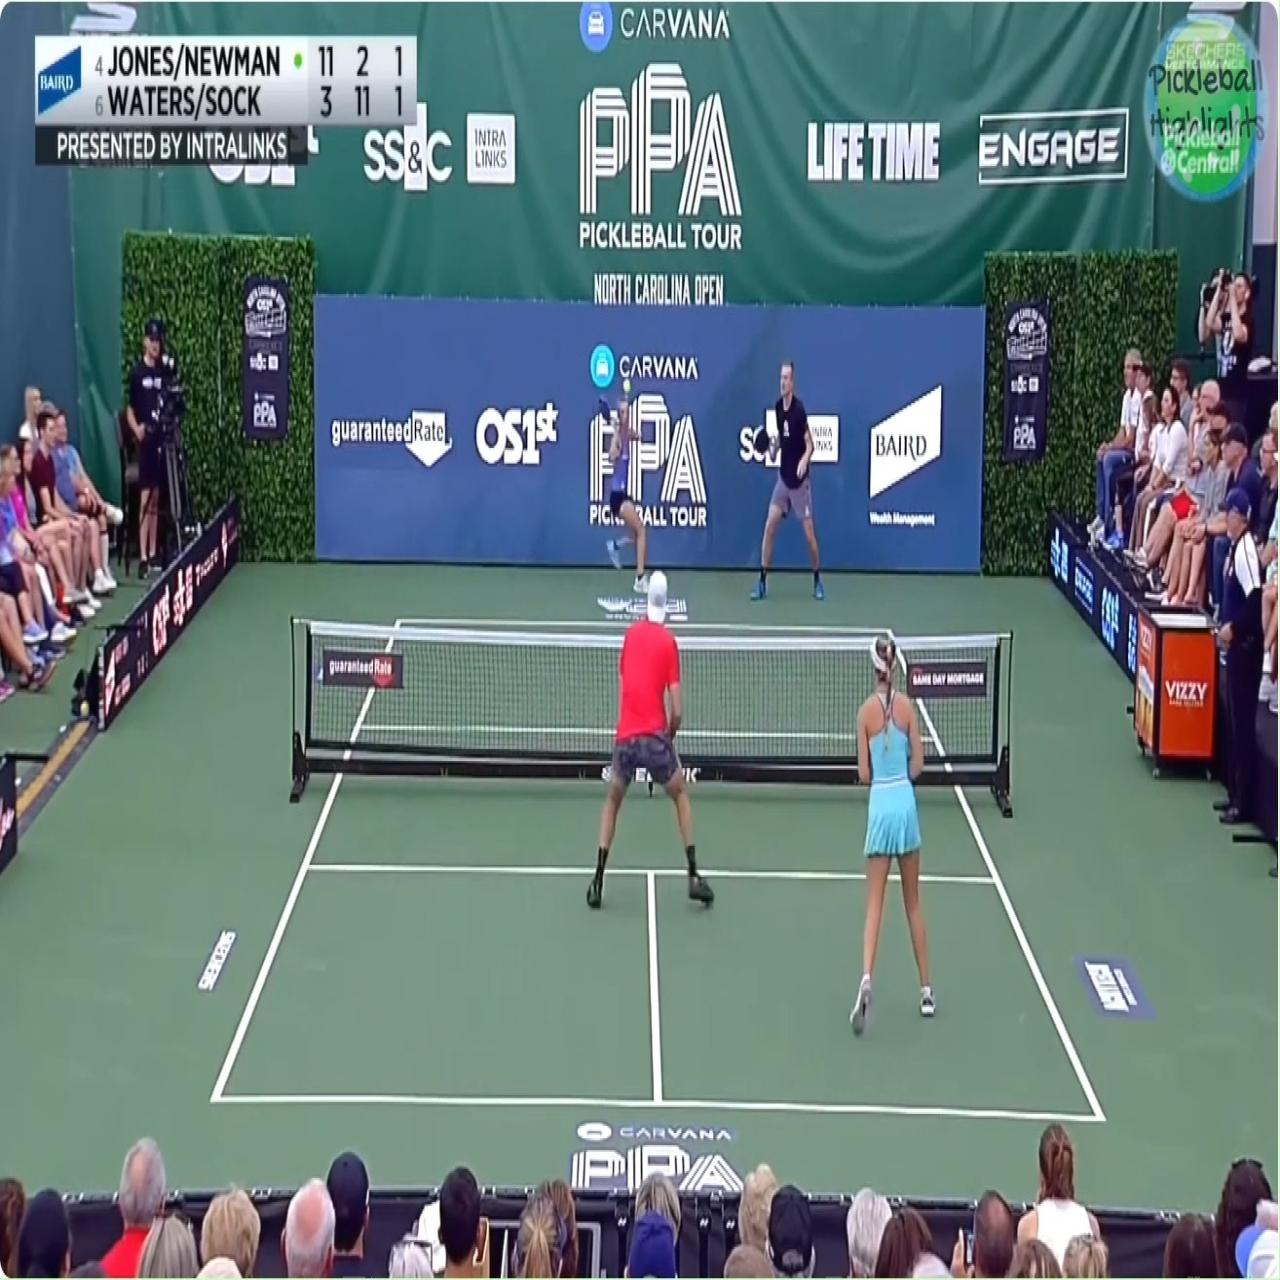pickleball: (622, 379, 632, 394)
